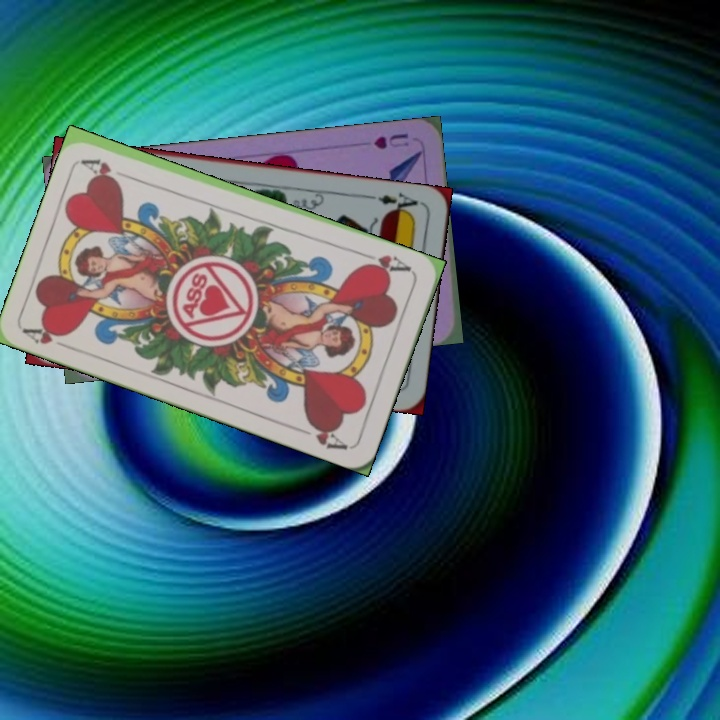EA: (365, 188, 424, 217)
HA: (20, 320, 77, 354), (357, 248, 414, 277)
HU: (369, 129, 412, 152)
